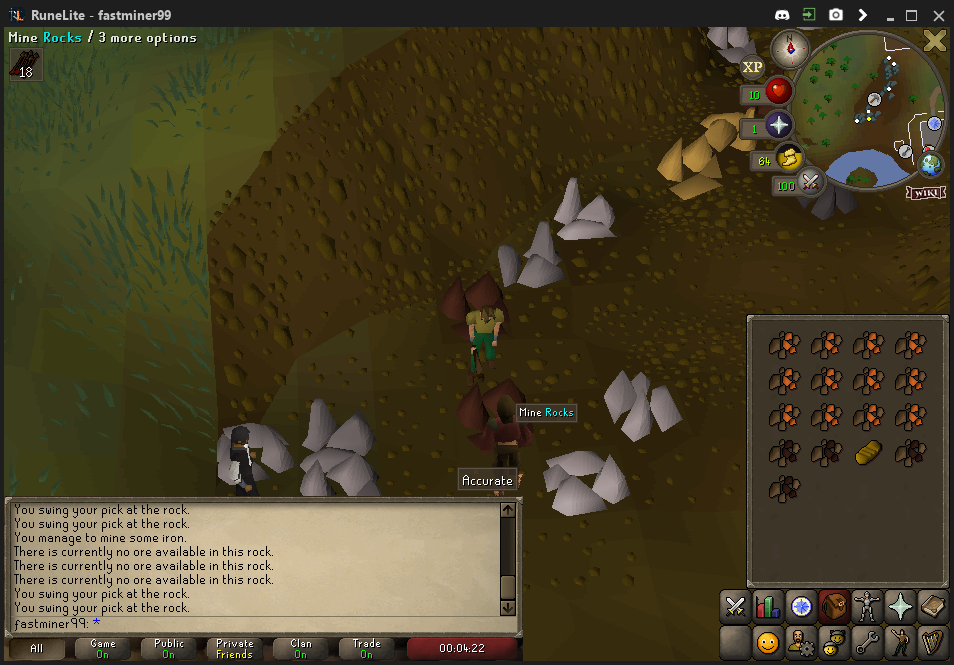ore: (457, 382, 545, 454), (436, 273, 513, 343)
